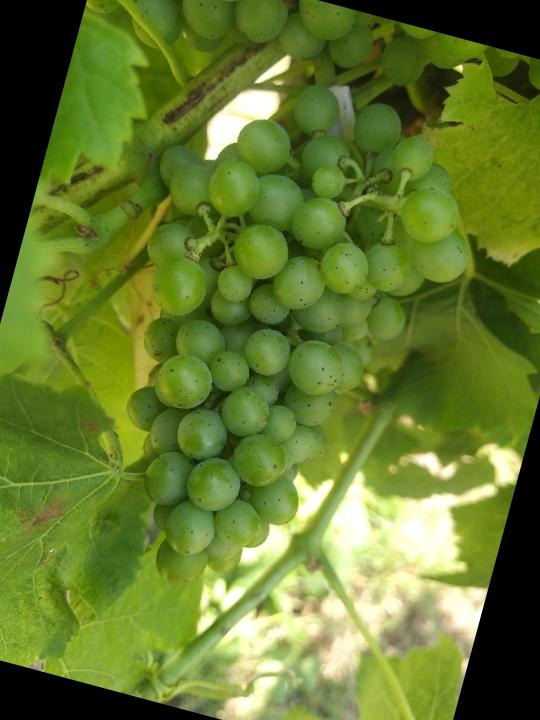grape: (54, 45, 508, 637)
